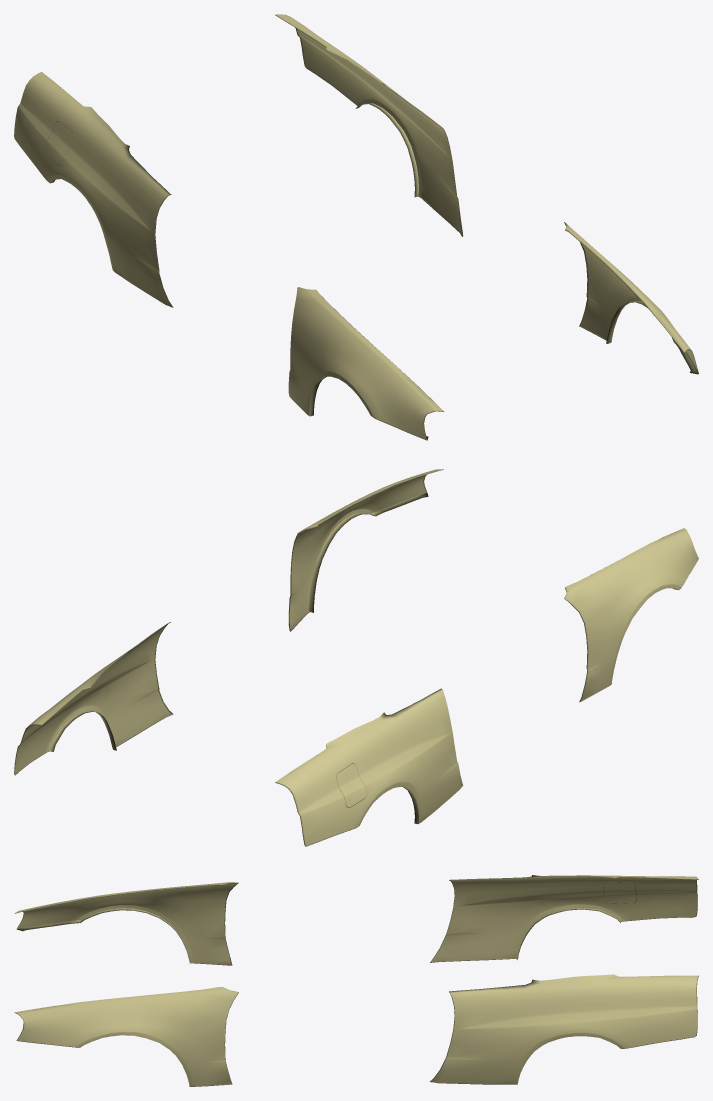
The model's file is R34_Fender01_Duco.fbx.
3 views of the same model, one above another, from view 1: azimuth 30°, elevation 25°; view 2: azimuth 150°, elevation 25°; view 3: azimuth 270°, elevation 25° (orthographic). The views are drawn at different scales.
Visible parts, largest first — view 1: R34_Fender01_Duco; view 2: R34_Fender01_Duco; view 3: R34_Fender01_Duco.
Part boxes in pixels (x1,y1,x2,y2): R34_Fender01_Duco: (14,14,698,440); R34_Fender01_Duco: (14,469,698,846); R34_Fender01_Duco: (14,875,698,1086).
Bounding box in the file's own units: 179 × 64.55 × 403.
